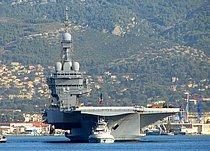MIL_Ship: (40, 14, 182, 141)
